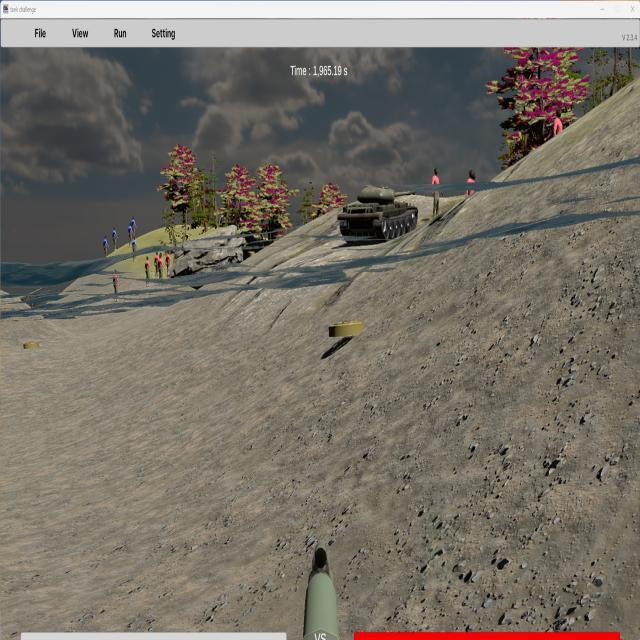Human: (431, 167, 442, 222)
Tank: (337, 184, 419, 243)
